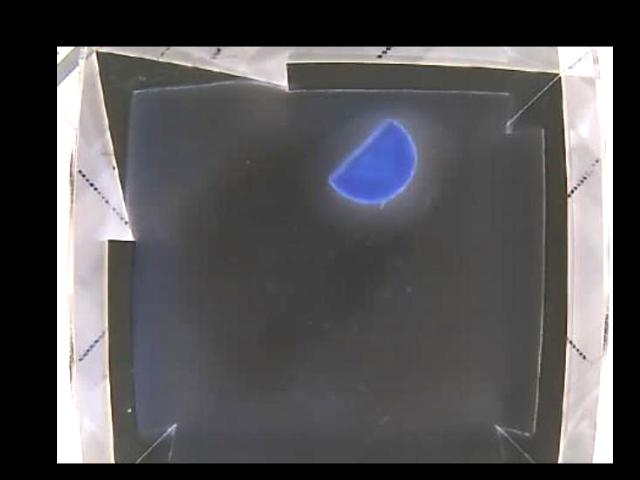Potato: (328, 120, 416, 208)
